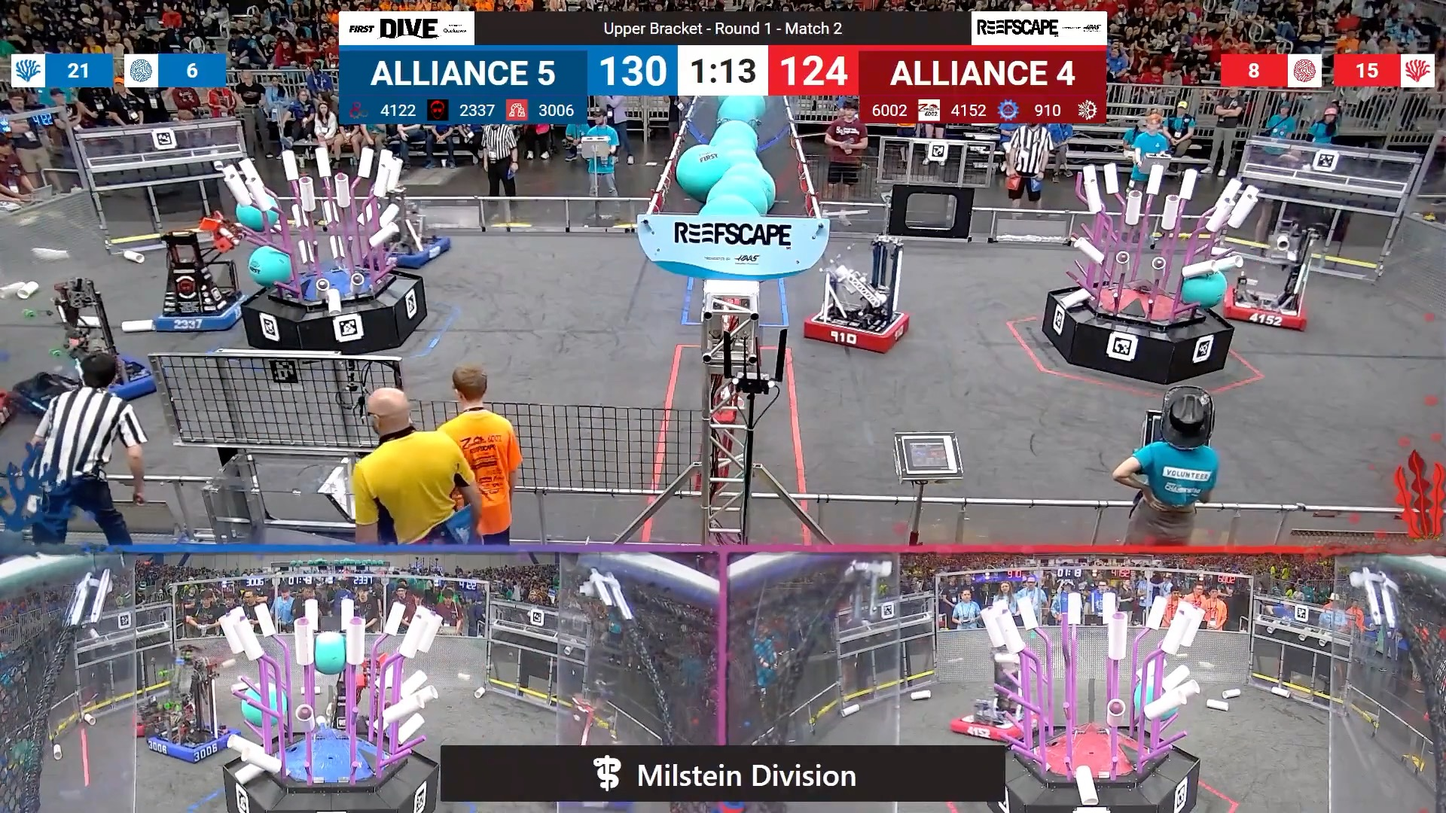bumpers: (796, 303, 916, 357), (146, 288, 255, 339), (136, 718, 239, 768), (1213, 285, 1316, 334), (57, 355, 163, 402), (946, 702, 1048, 748), (366, 234, 459, 270)
